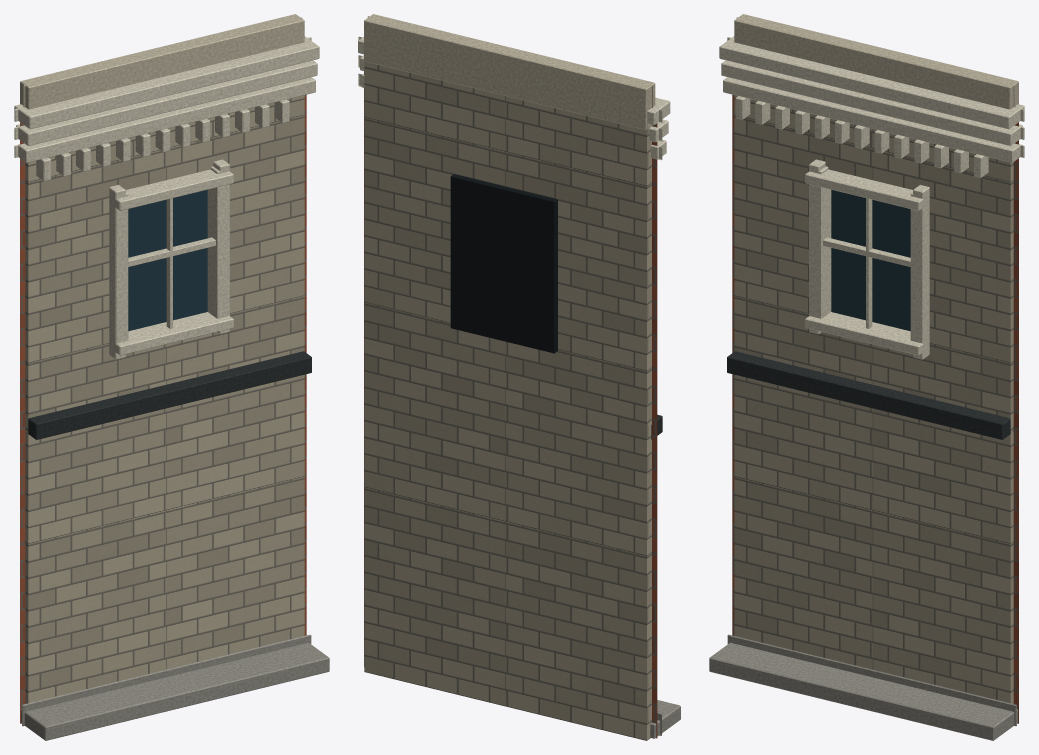
Rendered from WHSE19_lod1.glb.
3 renders of one model, left to right at view 1: azimuth 30°, elevation 25°; view 2: azimuth 150°, elevation 25°; view 3: azimuth 330°, elevation 25°, orthographic. The views are drawn at different scales.
Parts seen in each view (by area): view 1: WHSE19_FRONT_LOD1; view 2: WHSE19_FRONT_LOD1; view 3: WHSE19_FRONT_LOD1.
Part boxes in pixels (<box>): WHSE19_FRONT_LOD1: <box>14,14,329,740</box>; WHSE19_FRONT_LOD1: <box>358,14,680,740</box>; WHSE19_FRONT_LOD1: <box>709,14,1024,740</box>.
Size of the model in its own units: 3.44 by 7.05 by 0.65.
9 materials, 7 textured.
